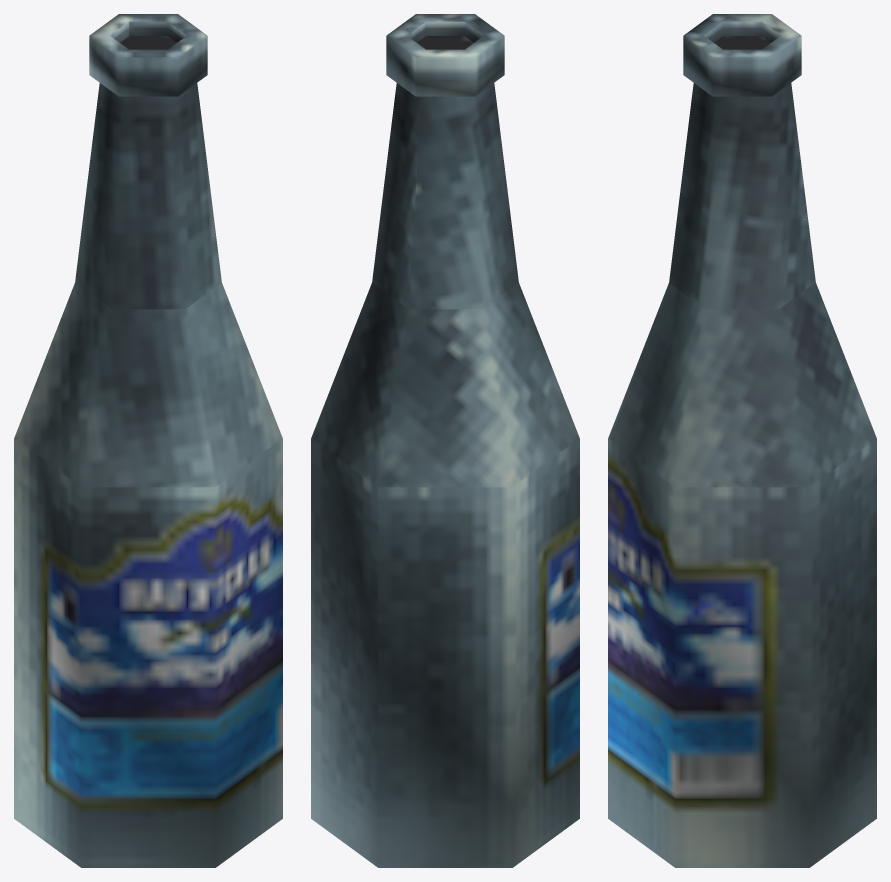
File: bottle_02.fbx
3 views of the same model, side by side, from view 1: azimuth 30°, elevation 25°; view 2: azimuth 150°, elevation 25°; view 3: azimuth 270°, elevation 25° (orthographic).
Visible parts, largest first — view 1: bottle_02; view 2: bottle_02; view 3: bottle_02.
Boxes of the visible parts, x1,y1,x2,y2 form: bottle_02: [14, 14, 282, 867]; bottle_02: [311, 14, 579, 867]; bottle_02: [608, 14, 876, 867].
Size of the model in its own units: 11.2 by 41.59 by 12.93.
1 material, 1 textured.
